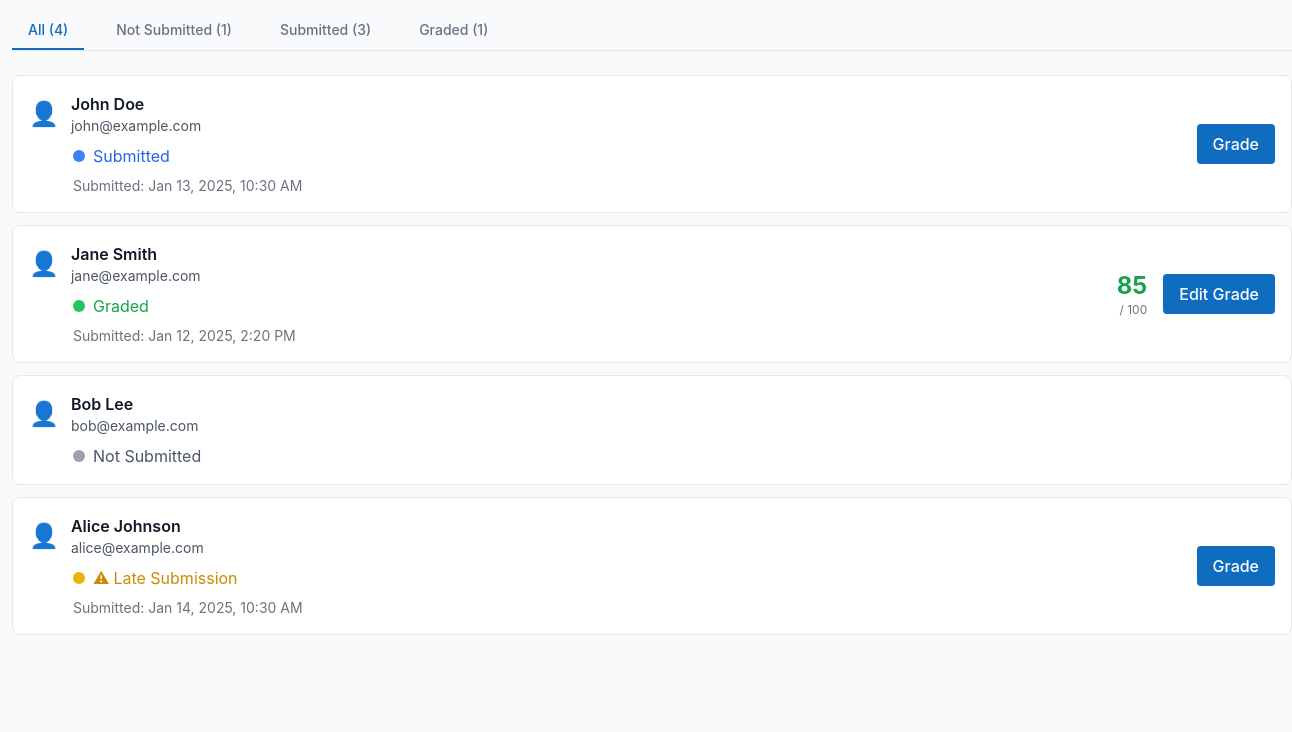
Test: SubmissionList › should filter submissions by "Submitted" status
The width and height of the screenshot is (1292, 732).
Note: "Submitted" tab includes both SUBMITTED and GRADED (3 total)
Click the button "Submitted (3)" at [326, 31], box [264,12,387,50]
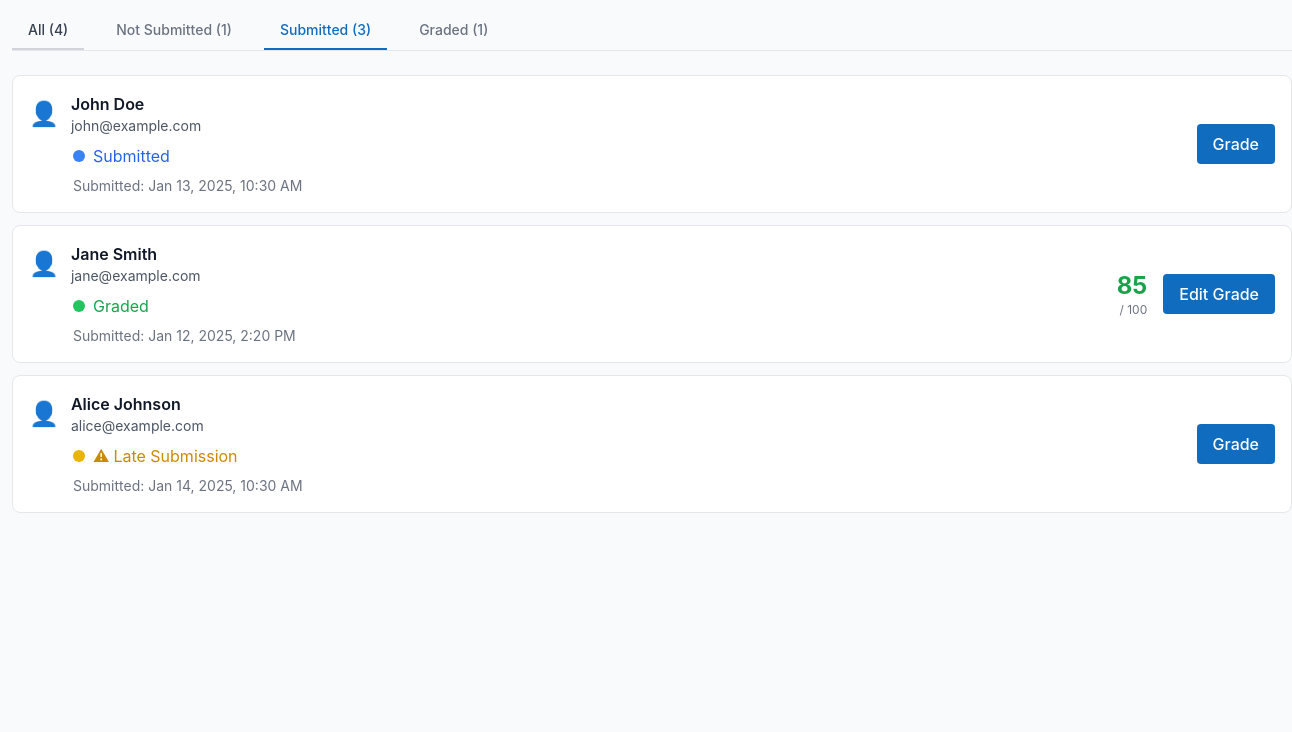
Expected: the heading "John Doe" is shown, [71,94,144,114]
Expected: the heading "Bob Lee" is gone
